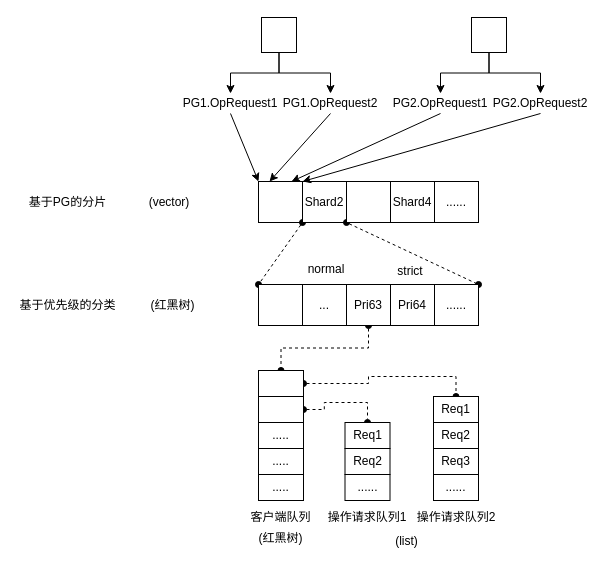
Image size: 607x569. Some labels were removed from this diagram. Each missing label, with the centre of its shape:
"Client1" goes at (x=281, y=383).
"Client2" goes at (x=281, y=409).
"PG1" goes at (x=278, y=34).
"PG2" goes at (x=488, y=34).
"Pri1" goes at (x=280, y=305).
"Shard1" goes at (x=280, y=201).
"Shard3" goes at (x=368, y=201).
